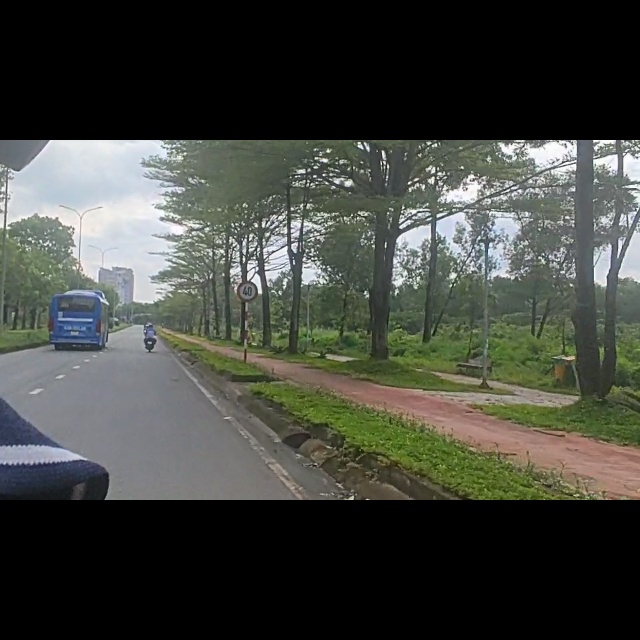Tốc độ tối đa cho phép 40km/h: (237, 282, 257, 301)
